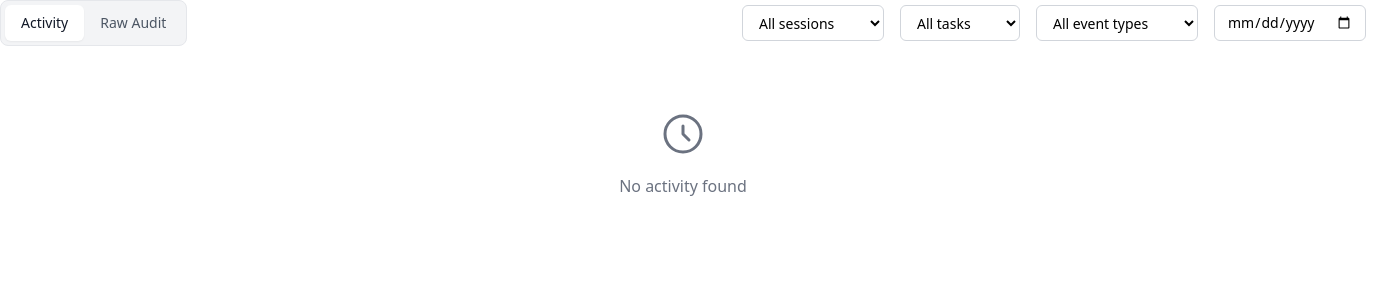
Test: ActivityPageClient › shows a client-side error alert when a fetch fails
This screenshot has width=1378, height=303.
Click the button "Raw Audit": (133, 23) [84,5,182,41]
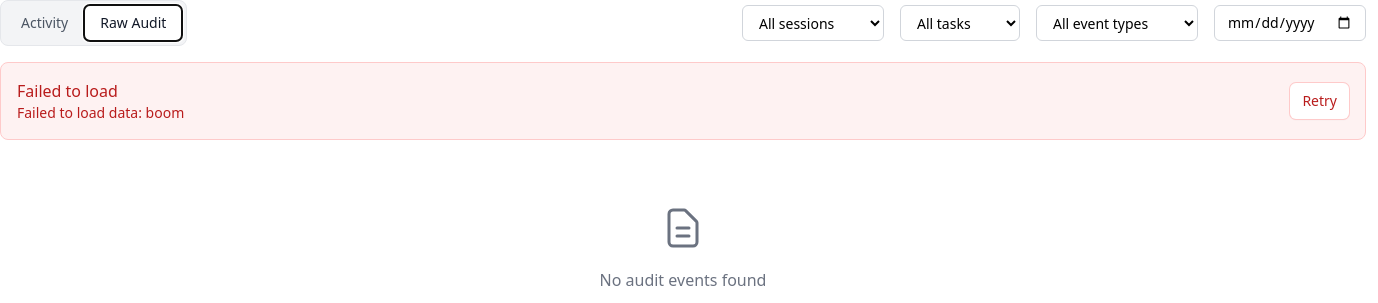
Result: the text "Failed to load" is shown at [17,80,118,102]
